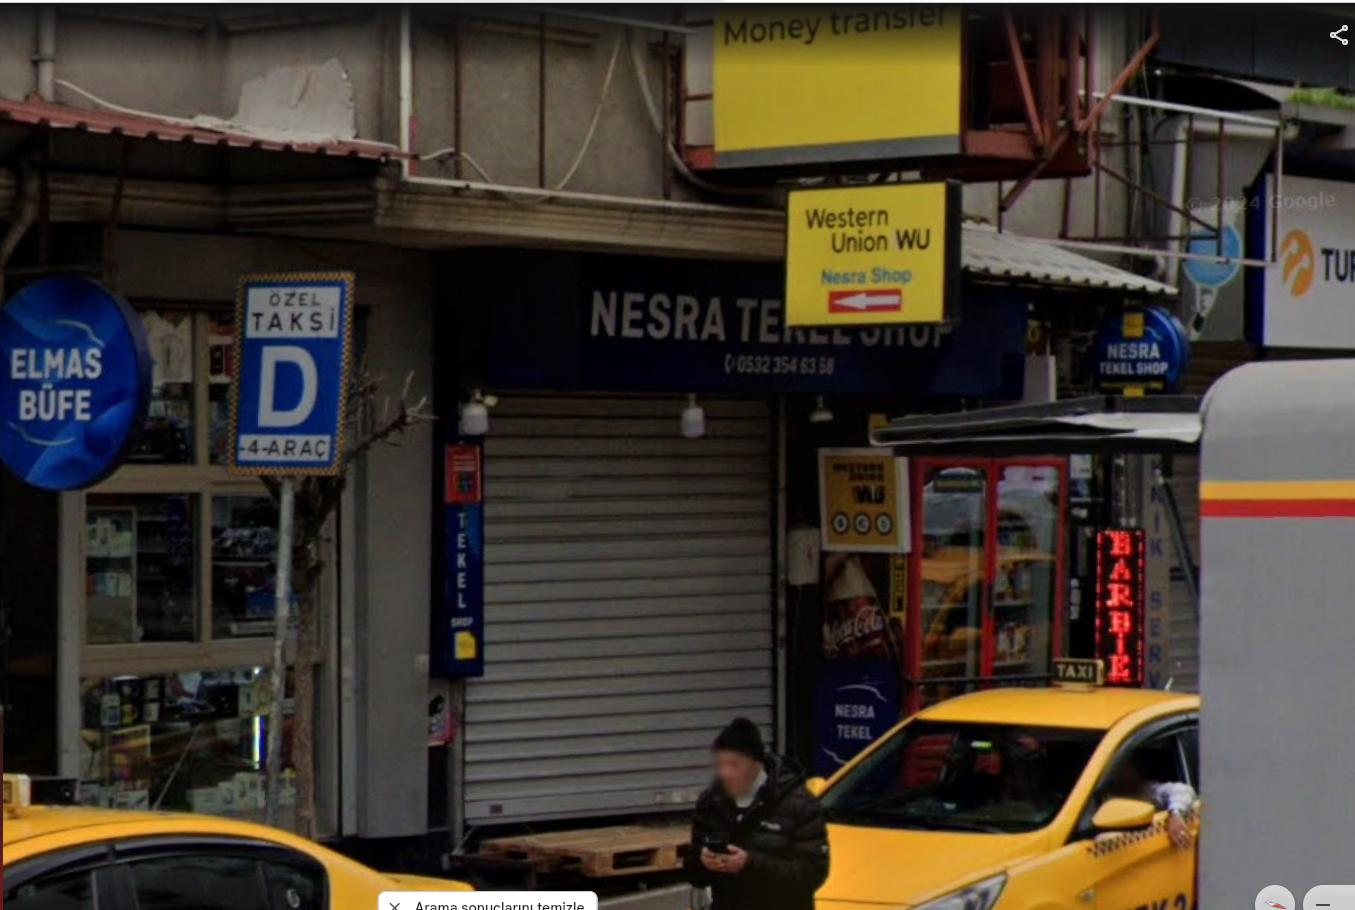station: (240, 336, 339, 433)
